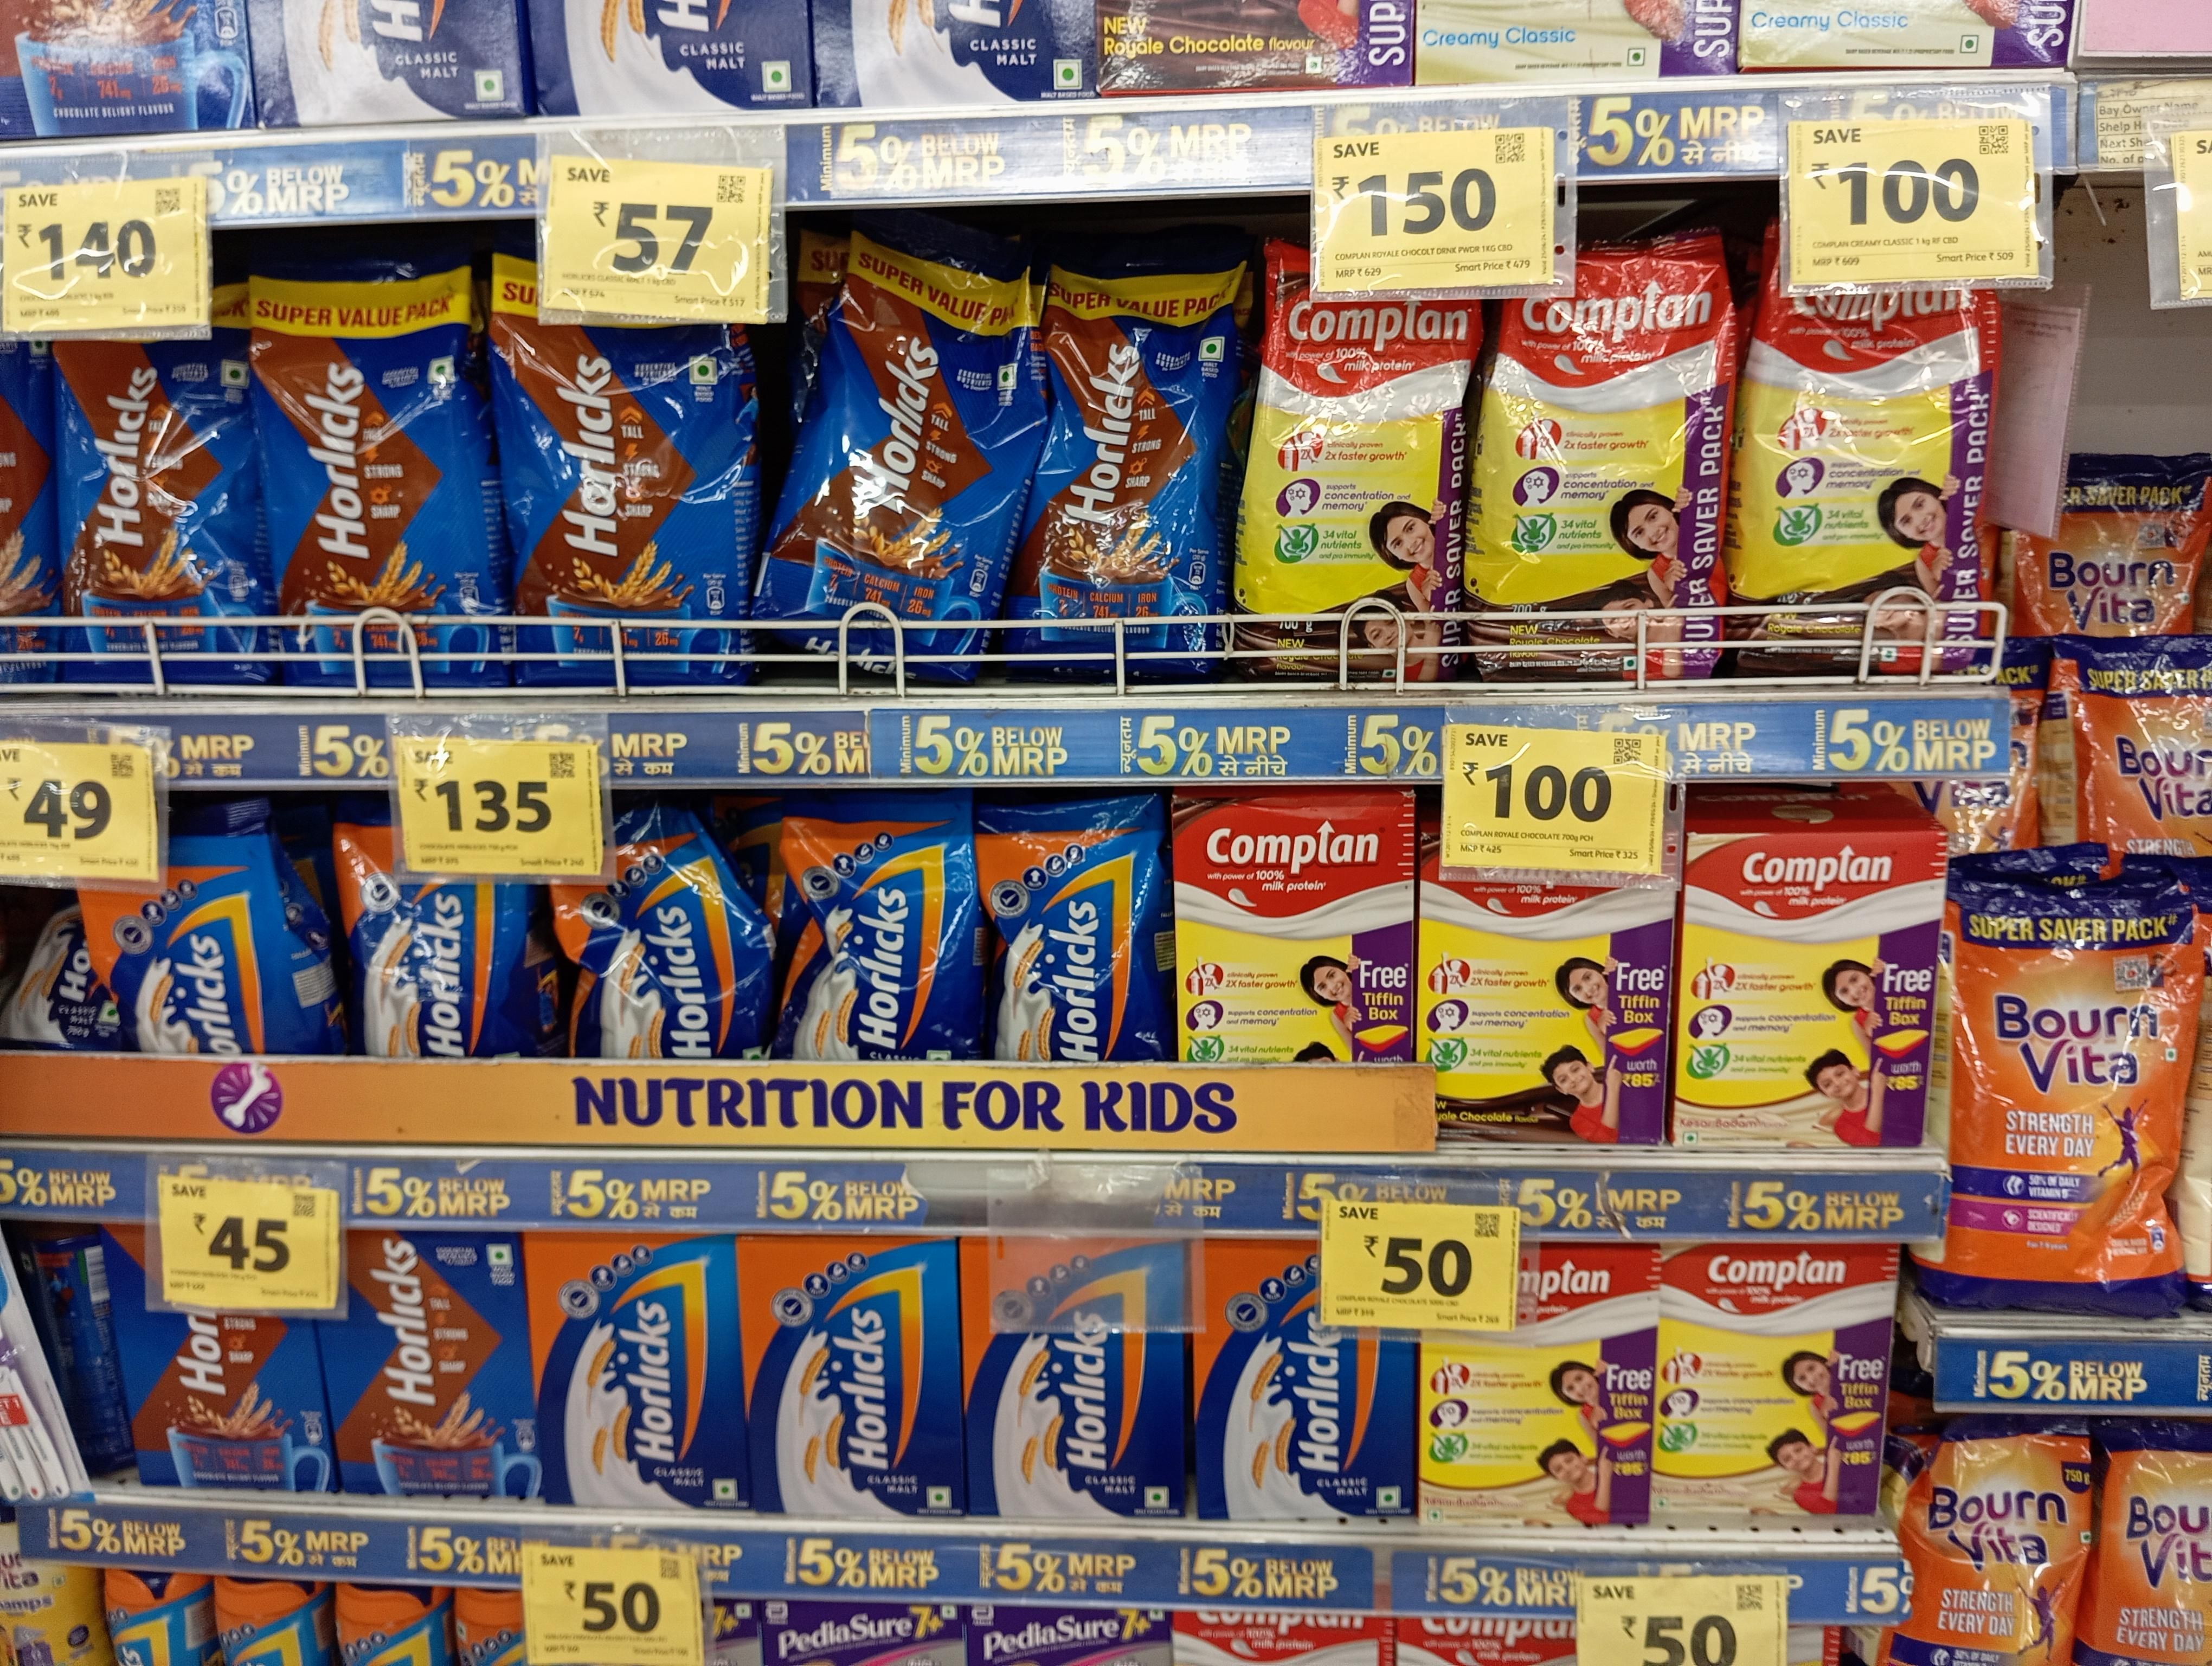BOURN_VITA_1_KG_POUCH: (1950, 859, 2198, 1321)
BOURN_VITA_750_G_POUCH: (1911, 1428, 2086, 1666)
COMPLAN_CHOCOLATE_500_GMS_PACK: (1177, 793, 1418, 1081), (1425, 871, 1672, 1146), (110, 1223, 310, 1493), (330, 1225, 519, 1505)
COMPLAN_KESAR_BADAM_500_GMS_PACK: (1687, 833, 1929, 1155), (1659, 1242, 1887, 1524), (1434, 1239, 1644, 1531)
COMPLAN_RC_POUCH_700_GMS_12: (1478, 256, 1717, 679), (1742, 271, 1981, 674), (1249, 282, 1464, 677)
HORLICK_CHOCOLATE_750_G_POUCH: (252, 273, 472, 688), (500, 291, 722, 683), (820, 249, 1025, 661), (45, 278, 241, 707), (1042, 257, 1219, 684)
HORLICK_CLASSIC_MALT_500_G_PACK: (1200, 1244, 1416, 1535), (963, 1236, 1180, 1519), (741, 1236, 953, 1510), (528, 1230, 734, 1507)
HORLICK_CLASSIC_MALT_750_G_POUCH: (773, 793, 974, 1071), (572, 803, 747, 1062), (341, 831, 528, 1061), (1005, 793, 1158, 1062), (96, 847, 268, 1066)
